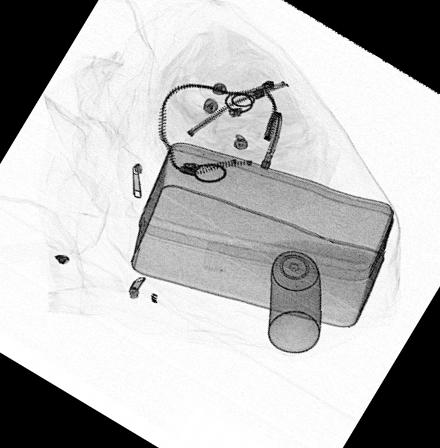Sprayer: (267, 240, 322, 355)
